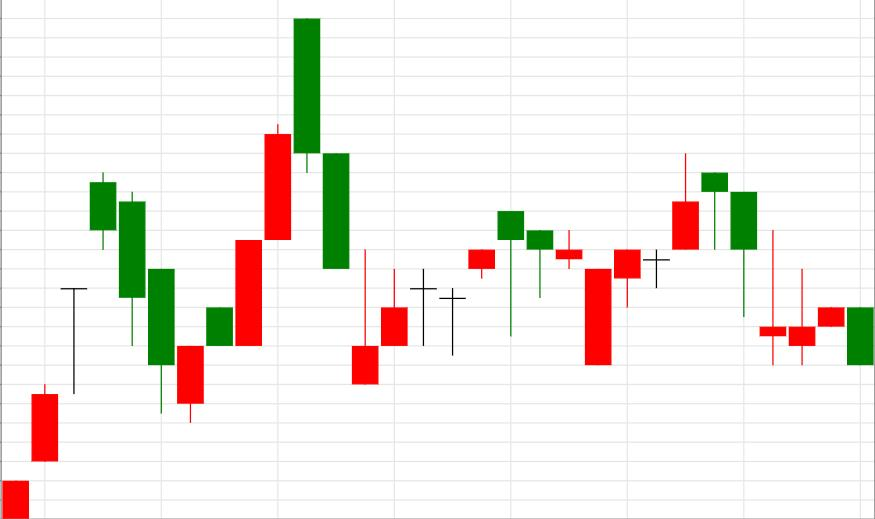three_black_crows_fall: (2, 172, 174, 519)
